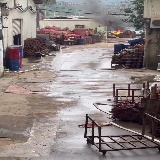fire: (112, 30, 120, 34)
